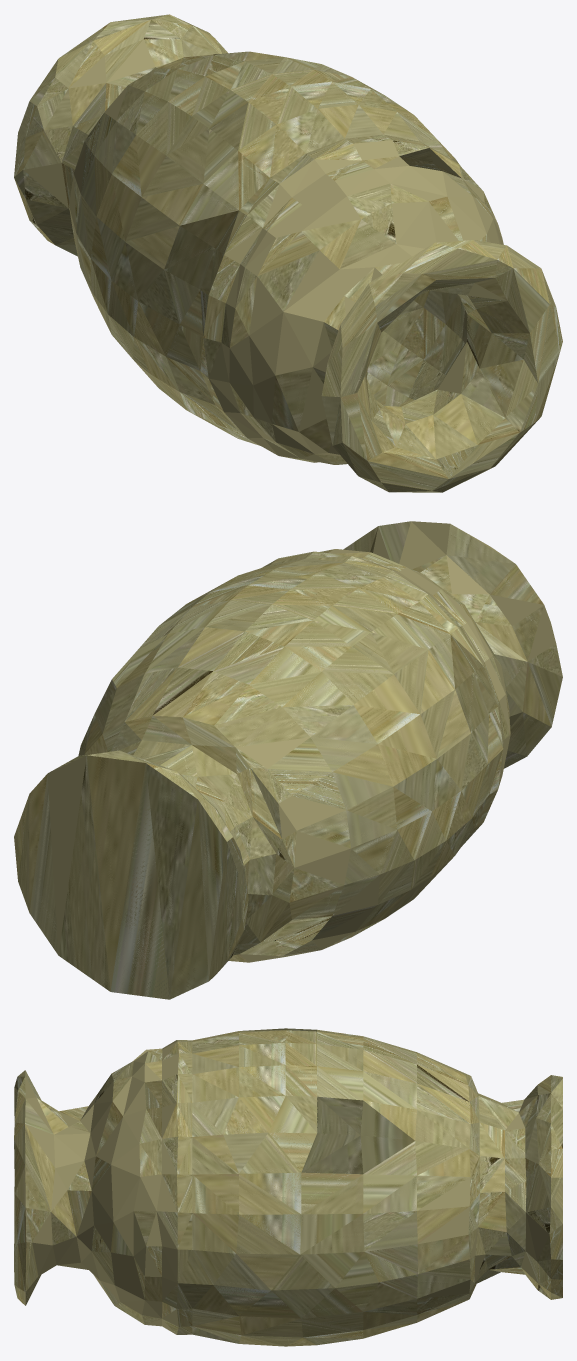
Rendered from model_align.obj.
3 renders of one model, top to bottom at view 1: azimuth 30°, elevation 25°; view 2: azimuth 150°, elevation 25°; view 3: azimuth 270°, elevation 25°, orthographic. The views are drawn at different scales.
Size of the model in its own units: 0.1152 by 0.1152 by 0.198.
1 material, 1 textured.
